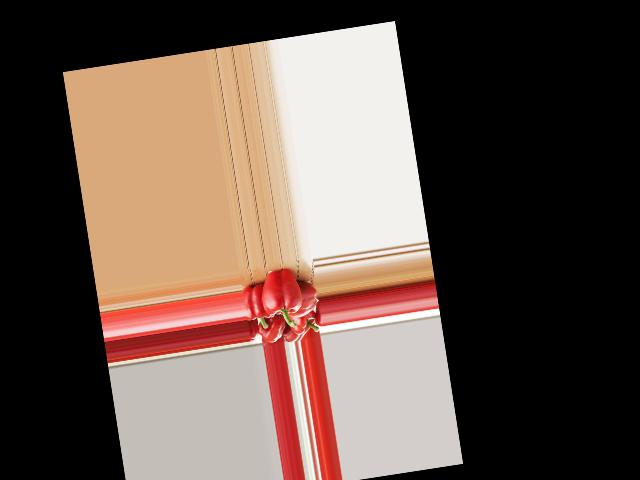bell_pepper: (288, 308, 321, 336)
